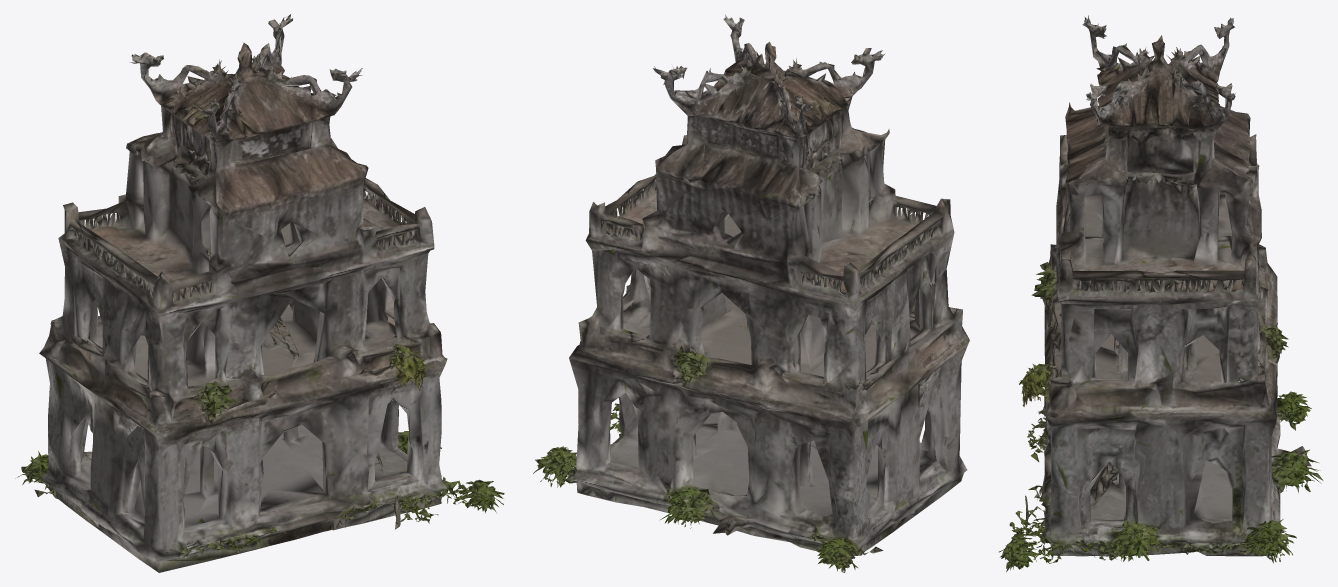
Rendered from thap-rua-lod1.glb.
3 views of the same model, side by side, from view 1: azimuth 30°, elevation 25°; view 2: azimuth 150°, elevation 25°; view 3: azimuth 270°, elevation 25° (orthographic). The views are drawn at different scales.
Parts seen in each view (by area): view 1: Mesh_0.002; view 2: Mesh_0.002; view 3: Mesh_0.002.
Part boxes in pixels (x1=…): Mesh_0.002: x1=15, y1=14, x2=504, y2=572; Mesh_0.002: x1=533, y1=14, x2=969, y2=572; Mesh_0.002: x1=999, y1=15, x2=1323, y2=572.
Size of the model in its own units: 6.92 by 8.76 by 5.69.
1 material, 1 textured.
